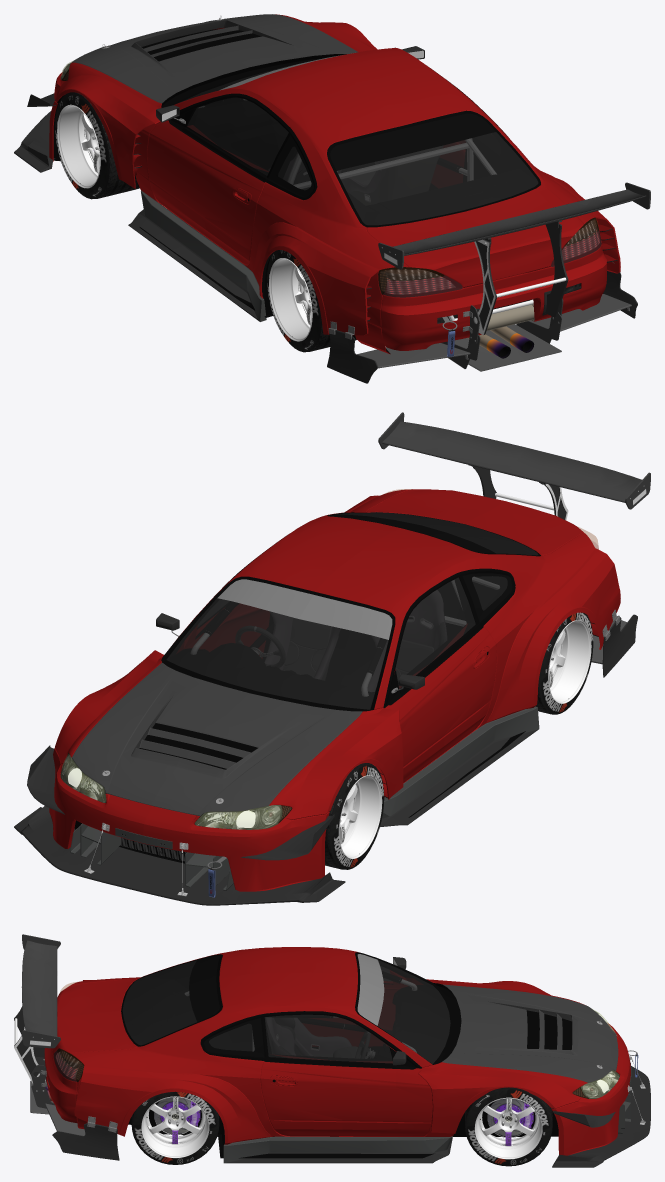
3 views of the same model, one above another, from view 1: azimuth 30°, elevation 25°; view 2: azimuth 150°, elevation 25°; view 3: azimuth 270°, elevation 25° (orthographic). The views are drawn at different scales.
Parts seen in each view (by area): view 1: Mesh3_BODY1_0, Mesh1_window_0, Mesh45_h_0, Mesh48__auto__0, Mesh13_cf_0, Mesh2_trimbl_0, Mesh48_glass_bl_0, Mesh19_exh4_0, Mesh9_DECK2_0, Mesh108_diff_0, Mesh26_side_metal_0, Mesh296_wheel_1_0 (+15 smaller); view 2: Mesh3_BODY1_0, Mesh45_h_0, Mesh1_window_0, Mesh13_cf_0, Mesh48__auto__0, Mesh9_DECK2_0, Mesh26_side_metal_0, Mesh2_trimbl_0, body, Mesh122_seat2_0, Mesh296_wheel_1_0, Mesh286_wheel_1_0 (+8 smaller); view 3: Mesh3_BODY1_0, Mesh1_window_0, Mesh45_h_0, Mesh48__auto__0, Mesh13_cf_0, Mesh2_trimbl_0, Mesh19_exh4_0, Mesh26_side_metal_0, Mesh9_DECK2_0, Mesh48_glass_bl_0, Mesh316_wheel_1_0, Mesh306_wheel_1_0 (+14 smaller).
Boxes of the visible parts, left/top/right/bottom form: Mesh3_BODY1_0: left=49, top=14, right=620, bottom=354; Mesh1_window_0: left=179, top=62, right=538, bottom=225; Mesh45_h_0: left=72, top=14, right=358, bottom=103; Mesh48__auto__0: left=184, top=76, right=537, bottom=263; Mesh13_cf_0: left=14, top=46, right=637, bottom=383; Mesh2_trimbl_0: left=168, top=68, right=540, bottom=309; Mesh48_glass_bl_0: left=268, top=113, right=495, bottom=196; Mesh19_exh4_0: left=53, top=29, right=601, bottom=356; Mesh9_DECK2_0: left=378, top=182, right=650, bottom=269; Mesh108_diff_0: left=357, top=294, right=631, bottom=371; Mesh26_side_metal_0: left=141, top=190, right=266, bottom=321; Mesh296_wheel_1_0: left=269, top=258, right=312, bottom=341; Mesh3_BODY1_0: left=49, top=489, right=620, bottom=891; Mesh45_h_0: left=72, top=662, right=362, bottom=816; Mesh1_window_0: left=166, top=512, right=538, bottom=709; Mesh13_cf_0: left=14, top=613, right=637, bottom=905; Mesh48__auto__0: left=168, top=512, right=537, bottom=708; Mesh9_DECK2_0: left=378, top=412, right=650, bottom=509; Mesh26_side_metal_0: left=70, top=706, right=539, bottom=890; Mesh2_trimbl_0: left=161, top=512, right=540, bottom=711; body: left=217, top=579, right=392, bottom=639; Mesh122_seat2_0: left=265, top=590, right=446, bottom=691; Mesh296_wheel_1_0: left=548, top=620, right=591, bottom=703; Mesh286_wheel_1_0: left=338, top=775, right=382, bottom=858; Mesh3_BODY1_0: left=44, top=947, right=630, bottom=1155; Mesh1_window_0: left=122, top=960, right=450, bottom=1064; Mesh45_h_0: left=442, top=984, right=618, bottom=1082; Mesh48__auto__0: left=123, top=977, right=449, bottom=1082; Mesh13_cf_0: left=45, top=957, right=650, bottom=1167; Mesh2_trimbl_0: left=121, top=952, right=454, bottom=1069; Mesh19_exh4_0: left=53, top=964, right=572, bottom=1158; Mesh26_side_metal_0: left=223, top=1062, right=631, bottom=1163; Mesh9_DECK2_0: left=21, top=934, right=60, bottom=1048; Mesh48_glass_bl_0: left=189, top=956, right=430, bottom=1057; Mesh316_wheel_1_0: left=141, top=1096, right=209, bottom=1158; Mesh306_wheel_1_0: left=474, top=1097, right=542, bottom=1159.
Bounding box in the file's own units: 2.12 × 1.18 × 4.82.
70 materials, 16 textured.
